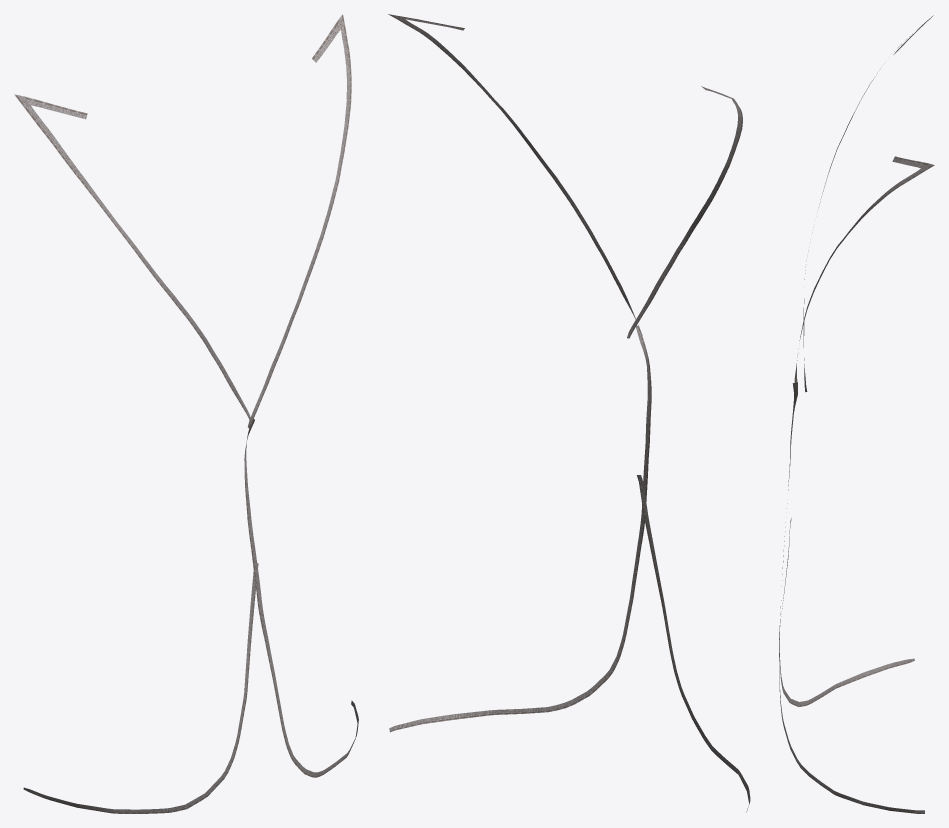
Rendered from peak_single_button_AMF 2mm.glb.
3 views of the same model, side by side, from view 1: azimuth 30°, elevation 25°; view 2: azimuth 150°, elevation 25°; view 3: azimuth 270°, elevation 25° (orthographic). The views are drawn at different scales.
Parts seen in each view (by area): view 1: peak_single_button_AMF1; view 2: peak_single_button_AMF1; view 3: peak_single_button_AMF1.
Boxes of the visible parts, x1,y1,x2,y2 form: peak_single_button_AMF1: (14, 14, 358, 813); peak_single_button_AMF1: (388, 14, 750, 812); peak_single_button_AMF1: (779, 15, 934, 813).
Bounding box in the file's own units: 0.0474 × 0.0939 × 0.0203.
Materials: 1 (1 with a texture image).
